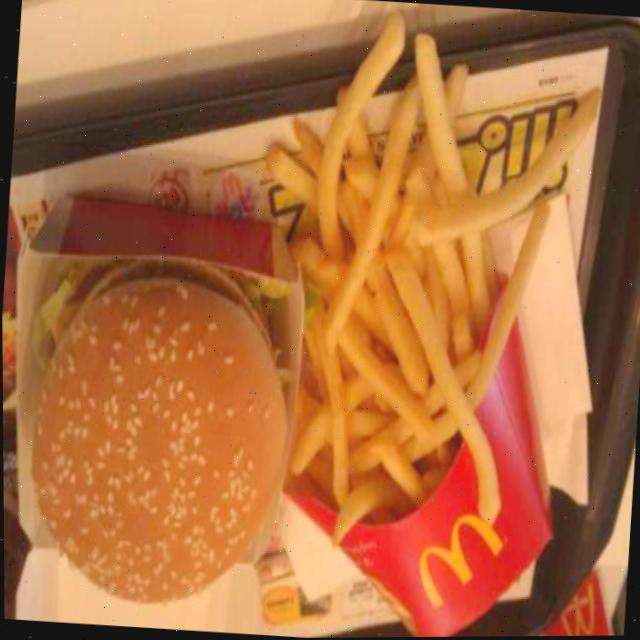汉堡快餐: (2, 246, 299, 615)
炸货点心: (227, 91, 593, 639)
